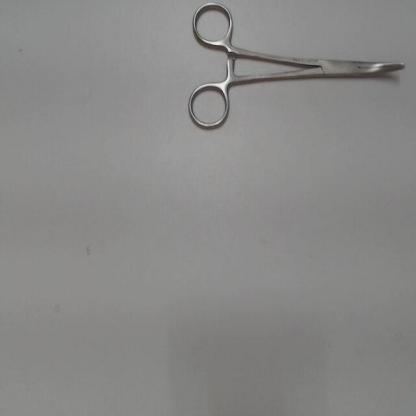Crile Artery Forceps: (182, 1, 410, 136)
